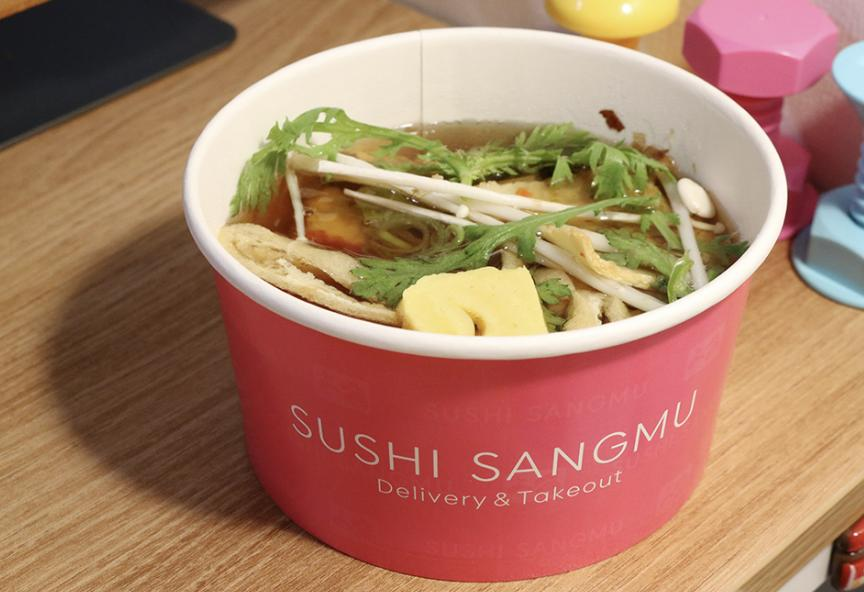Lunch Box: (183, 28, 785, 581)
